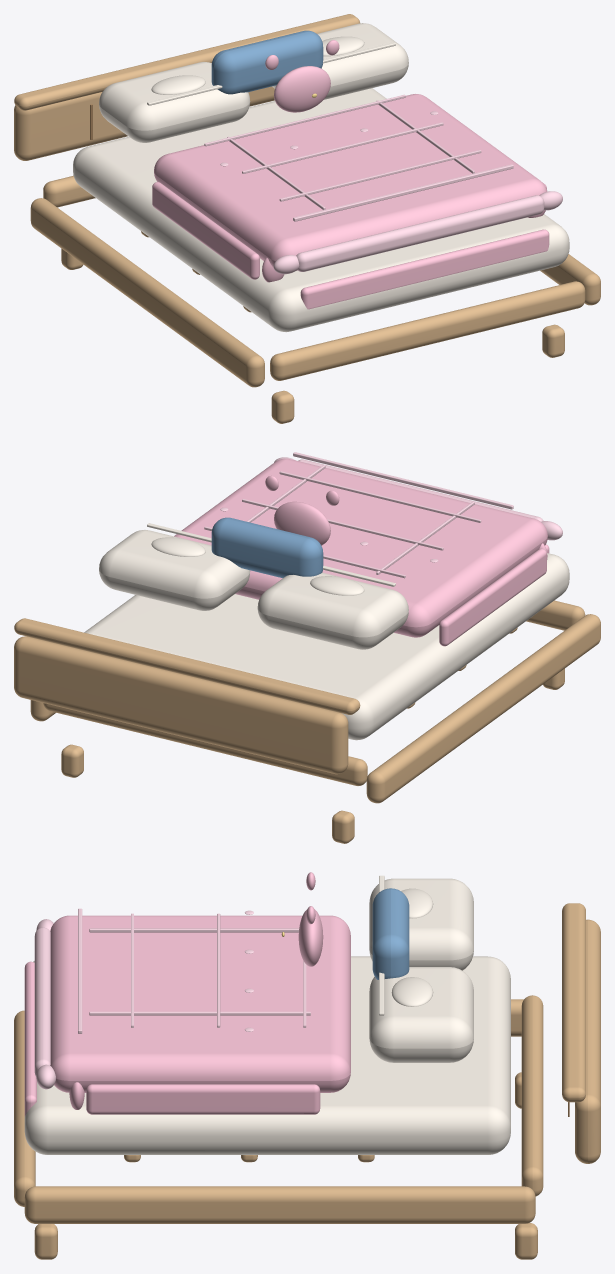
The model's file is 目标图精修粉木单人床.fbx.
The picture shows the model from 3 angles, top to bottom: view 1: azimuth 30°, elevation 25°; view 2: azimuth 150°, elevation 25°; view 3: azimuth 270°, elevation 25°; orthographic projection. The views are drawn at different scales.
Visible parts, largest first — view 1: 目标图精修粉木单人床_v224_粉色软被主面, 目标图精修粉木单人床_v224_奶油薄床垫, 目标图精修粉木单人床_v224_床尾低矮细木横轨, 目标图精修粉木单人床_v224_左侧低矮细木轨, 目标图精修粉木单人床_左奶油枕, 目标图精修粉木单人床_v224_床尾柔粉薄垂边, 目标图精修粉木单人床_v224_低矮薄木床头, 目标图精修粉木单人床_v234_粉被前侧厚软包边, 目标图精修粉木单人床_蓝色小靠枕, 目标图精修粉木单人床_v224_床头上沿细圆木, 目标图精修粉木单人床_右奶油枕, 目标图精修粉木单人床_v234_粉被左侧薄垂边 (+10 smaller); view 2: 目标图精修粉木单人床_v224_粉色软被主面, 目标图精修粉木单人床_v224_奶油薄床垫, 目标图精修粉木单人床_v224_低矮薄木床头, 目标图精修粉木单人床_v224_左侧低矮细木轨, 目标图精修粉木单人床_左奶油枕, 目标图精修粉木单人床_右奶油枕, 目标图精修粉木单人床_v224_床头上沿细圆木, 目标图精修粉木单人床_蓝色小靠枕, 目标图精修粉木单人床_v234_粉被左侧薄垂边, 目标图精修粉木单人床_v224_床头下方细木轨, 目标图精修粉木单人床_粉色猫抱枕身, 目标图精修粉木单人床_床尾柔粉滚边 (+8 smaller); view 3: 目标图精修粉木单人床_v224_粉色软被主面, 目标图精修粉木单人床_v224_奶油薄床垫, 目标图精修粉木单人床_v224_右侧低矮细木轨, 目标图精修粉木单人床_右奶油枕, 目标图精修粉木单人床_v234_粉被右侧薄垂边, 目标图精修粉木单人床_左奶油枕, 目标图精修粉木单人床_v224_床头上沿细圆木, 目标图精修粉木单人床_v224_床头下方细木轨, 目标图精修粉木单人床_v224_低矮薄木床头, 目标图精修粉木单人床_蓝色小靠枕, 目标图精修粉木单人床_v224_床尾低矮细木横轨, 目标图精修粉木单人床_v234_粉被前侧厚软包边 (+9 smaller).
Part boxes in pixels (<box>): 目标图精修粉木单人床_v224_粉色软被主面: <box>154,94,547,270</box>; 目标图精修粉木单人床_v224_奶油薄床垫: <box>73,88,569,332</box>; 目标图精修粉木单人床_v224_床尾低矮细木横轨: <box>270,281,585,380</box>; 目标图精修粉木单人床_v224_左侧低矮细木轨: <box>30,198,264,387</box>; 目标图精修粉木单人床_左奶油枕: <box>99,62,250,142</box>; 目标图精修粉木单人床_v224_床尾柔粉薄垂边: <box>300,229,549,309</box>; 目标图精修粉木单人床_v224_低矮薄木床头: <box>14,86,274,160</box>; 目标图精修粉木单人床_v234_粉被前侧厚软包边: <box>296,195,544,271</box>; 目标图精修粉木单人床_蓝色小靠枕: <box>211,30,323,94</box>; 目标图精修粉木单人床_v224_床头上沿细圆木: <box>14,14,359,110</box>; 目标图精修粉木单人床_右奶油枕: <box>272,23,408,99</box>; 目标图精修粉木单人床_v234_粉被左侧薄垂边: <box>152,182,259,279</box>; 目标图精修粉木单人床_v224_粉色软被主面: <box>174,458,547,637</box>; 目标图精修粉木单人床_v224_奶油薄床垫: <box>84,553,569,740</box>; 目标图精修粉木单人床_v224_低矮薄木床头: <box>14,636,348,774</box>; 目标图精修粉木单人床_v224_左侧低矮细木轨: <box>366,614,600,803</box>; 目标图精修粉木单人床_左奶油枕: <box>257,572,408,649</box>; 目标图精修粉木单人床_右奶油枕: <box>99,530,250,610</box>; 目标图精修粉木单人床_v224_床头上沿细圆木: <box>14,618,360,714</box>; 目标图精修粉木单人床_蓝色小靠枕: <box>211,517,323,578</box>; 目标图精修粉木单人床_v234_粉被左侧薄垂边: <box>439,548,546,646</box>; 目标图精修粉木单人床_v224_床头下方细木轨: <box>43,703,367,785</box>; 目标图精修粉木单人床_粉色猫抱枕身: <box>274,501,330,545</box>; 目标图精修粉木单人床_床尾柔粉滚边: <box>293,452,513,509</box>; 目标图精修粉木单人床_v224_粉色软被主面: <box>50,915,350,1092</box>; 目标图精修粉木单人床_v224_奶油薄床垫: <box>24,956,510,1154</box>; 目标图精修粉木单人床_v224_右侧低矮细木轨: <box>24,1186,535,1223</box>; 目标图精修粉木单人床_右奶油枕: <box>369,967,473,1062</box>; 目标图精修粉木单人床_v234_粉被右侧薄垂边: <box>86,1084,320,1114</box>; 目标图精修粉木单人床_左奶油枕: <box>369,878,473,970</box>; 目标图精修粉木单人床_v224_床头上沿细圆木: <box>562,903,585,1102</box>; 目标图精修粉木单人床_v224_床头下方细木轨: <box>521,995,543,1196</box>; 目标图精修粉木单人床_v224_低矮薄木床头: <box>575,919,600,1163</box>; 目标图精修粉木单人床_蓝色小靠枕: <box>372,888,409,979</box>; 目标图精修粉木单人床_v224_床尾低矮细木横轨: <box>14,1010,35,1206</box>; 目标图精修粉木单人床_v234_粉被前侧厚软包边: <box>34,927,50,1076</box>.
Bounding box in the file's own units: 152 × 105 × 191.
